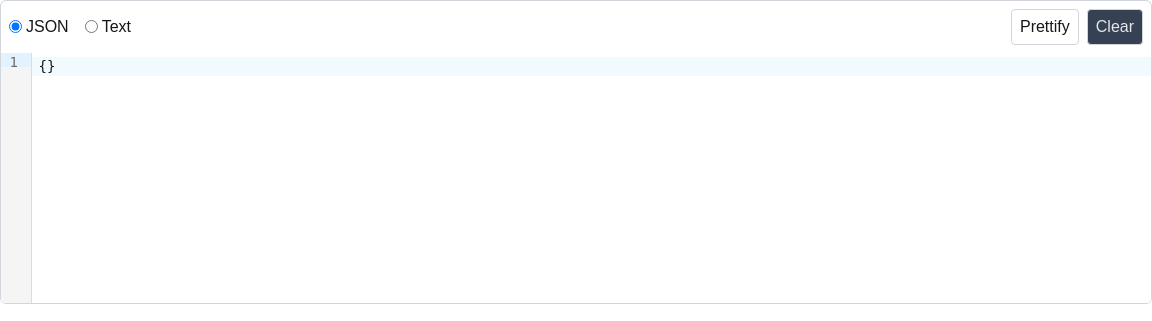
Test: RequestBodyEditor › switches between JSON and text modes
Click the radio button labelled "Text" at (91, 27), box [85,20,98,33]
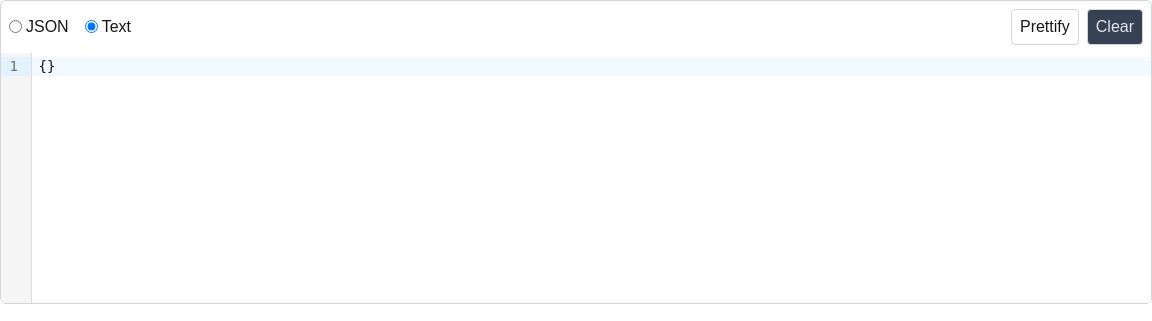
Result: the radio button labelled "Text" is checked at [85,20,98,33]
Result: the radio button labelled "JSON" is not checked at [9,20,22,33]
